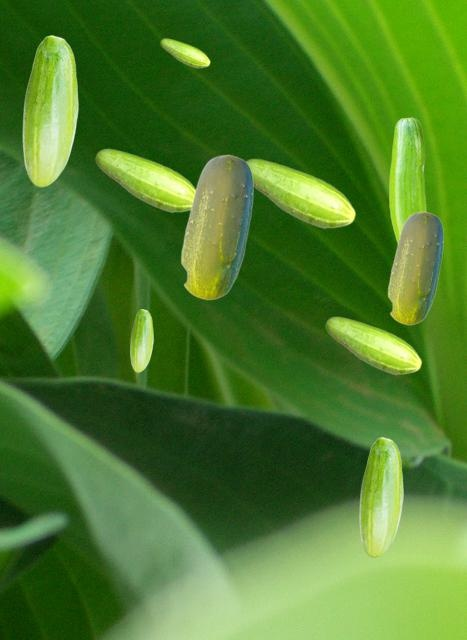cucumber: (180, 154, 252, 299), (22, 35, 77, 186), (246, 158, 355, 228), (95, 148, 195, 212), (387, 211, 442, 324), (325, 316, 421, 374), (359, 437, 402, 556), (389, 117, 426, 242), (160, 38, 209, 67), (130, 309, 152, 371)
